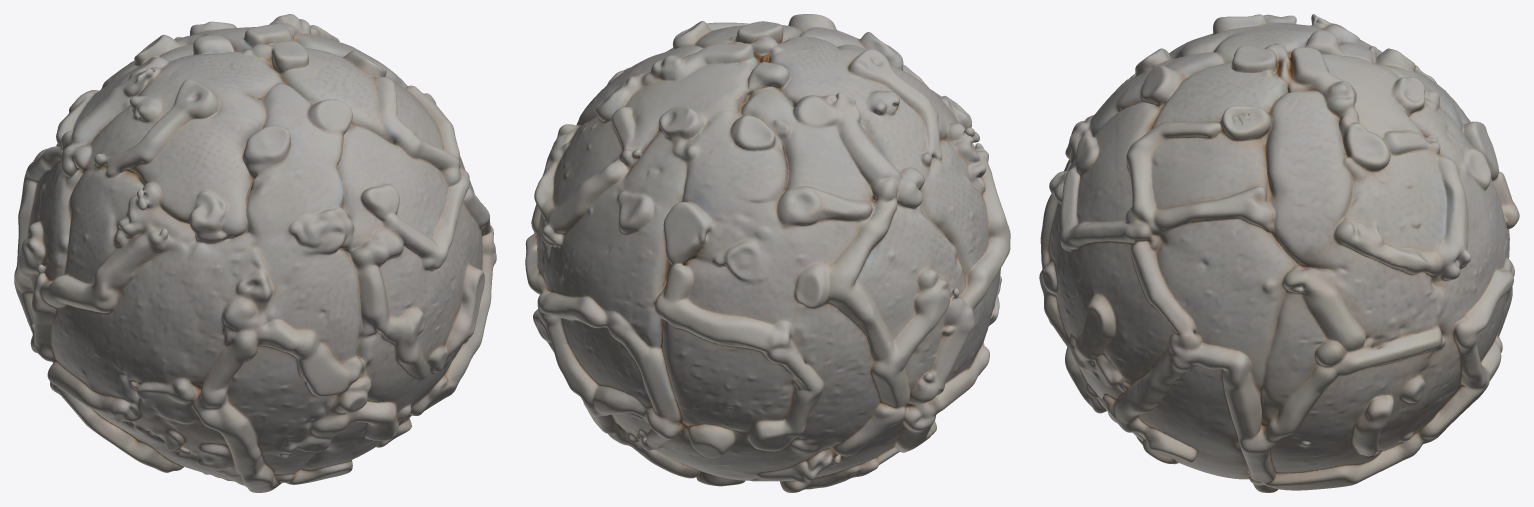
Rendered from detailed_realistic_model_solid_18.glb.
3 views of the same model, side by side, from view 1: azimuth 30°, elevation 25°; view 2: azimuth 150°, elevation 25°; view 3: azimuth 270°, elevation 25° (orthographic).
Parts seen in each view (by area): view 1: tripo_node_357f7bd2-2474-4dfc-9a14-e80fe149dc77; view 2: tripo_node_357f7bd2-2474-4dfc-9a14-e80fe149dc77; view 3: tripo_node_357f7bd2-2474-4dfc-9a14-e80fe149dc77.
Part boxes in pixels (bbox=[...]): tripo_node_357f7bd2-2474-4dfc-9a14-e80fe149dc77: bbox=[14, 14, 496, 492]; tripo_node_357f7bd2-2474-4dfc-9a14-e80fe149dc77: bbox=[525, 14, 1010, 492]; tripo_node_357f7bd2-2474-4dfc-9a14-e80fe149dc77: bbox=[1039, 14, 1519, 492].
Bounding box in the file's own units: 1 × 0.961 × 0.9829.
1 material, 1 textured.
